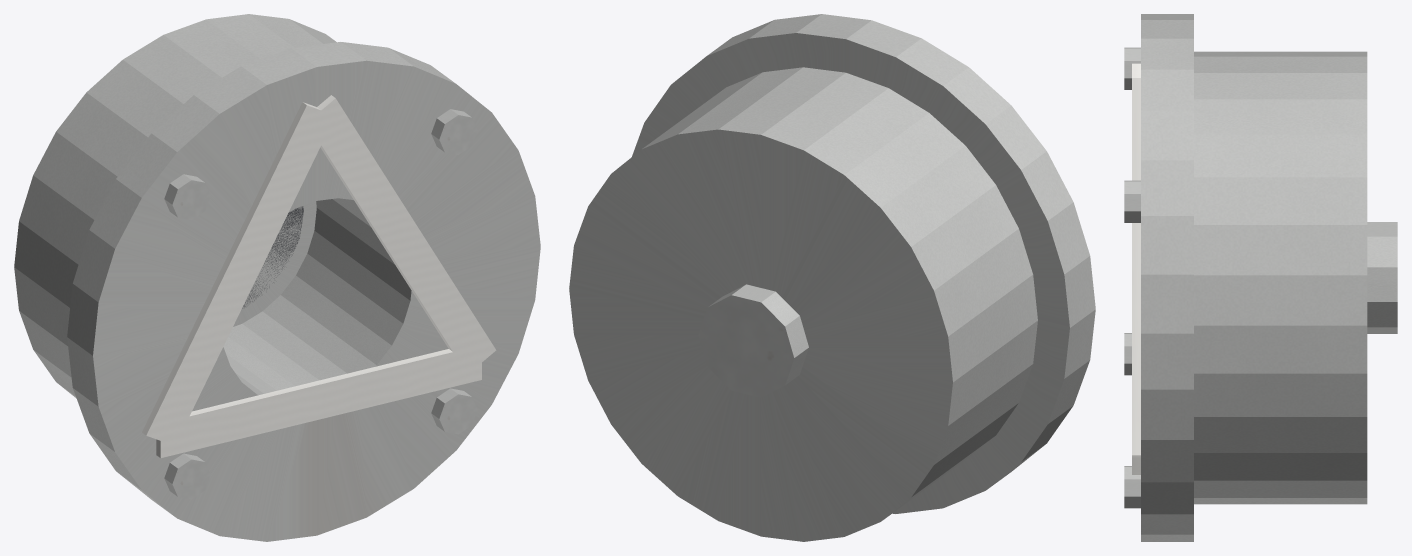
The model's file is bussocket_triangle.gltf.
The picture shows the model from 3 angles, left to right: view 1: azimuth 30°, elevation 25°; view 2: azimuth 150°, elevation 25°; view 3: azimuth 270°, elevation 25°; orthographic projection. The views are drawn at different scales.
Visible parts, largest first — view 1: jx_bussocket_triangle; view 2: jx_bussocket_triangle; view 3: jx_bussocket_triangle.
Boxes of the visible parts, x1=… form: jx_bussocket_triangle: x1=14, y1=14, x2=540, y2=541; jx_bussocket_triangle: x1=569, y1=14, x2=1095, y2=541; jx_bussocket_triangle: x1=1124, y1=14, x2=1397, y2=541.
Size of the model in its own units: 0.7 by 0.7 by 0.362.
Materials: 3 (3 with a texture image).
